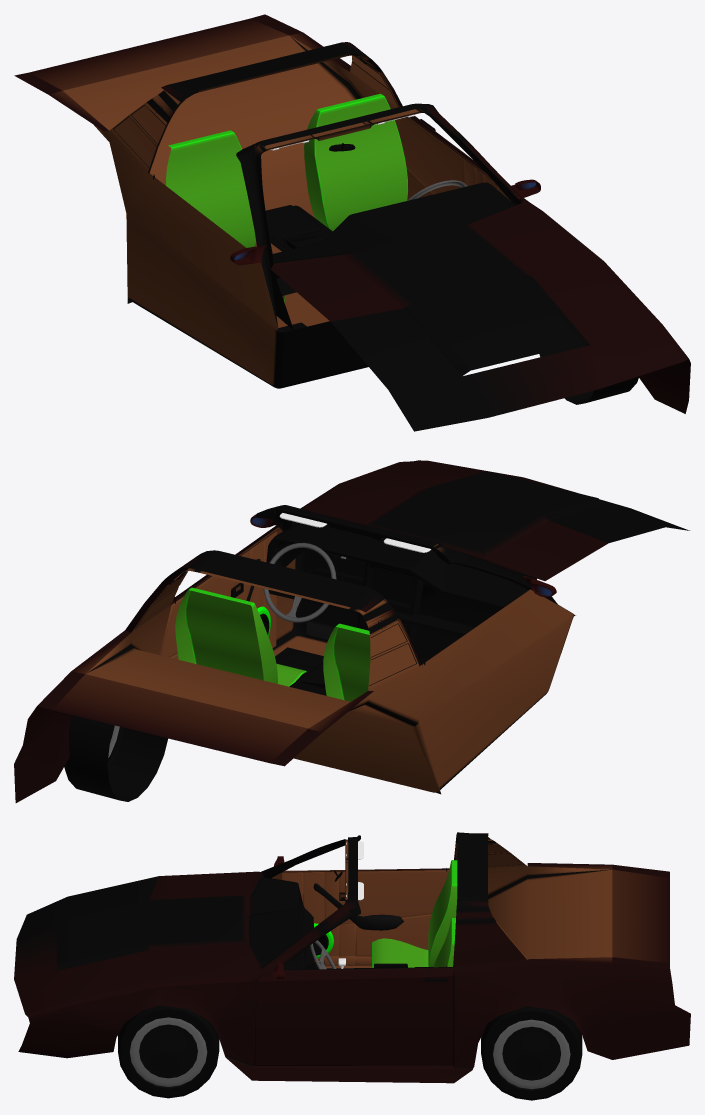
Rendered from CarGroup 1.fbx.
3 views of the same model, one above another, from view 1: azimuth 30°, elevation 25°; view 2: azimuth 150°, elevation 25°; view 3: azimuth 270°, elevation 25° (orthographic). The views are drawn at different scales.
Visible parts, largest first — view 1: body, interior, frontWheel; view 2: body, interior, rearWheel, steeringWheel; view 3: body, interior, rearWheel, frontWheel.
Boxes of the visible parts, x1,y1,x2,y2 form: body: [14, 14, 690, 431]; interior: [150, 93, 540, 330]; frontWheel: [539, 343, 638, 404]; body: [14, 460, 689, 802]; interior: [160, 514, 557, 701]; rearWheel: [64, 715, 168, 801]; steeringWheel: [263, 542, 336, 622]; body: [14, 832, 690, 1083]; interior: [248, 856, 457, 979]; rearWheel: [481, 1006, 582, 1100]; frontWheel: [118, 1005, 219, 1098].
Size of the model in its own units: 202 by 139 by 479.
